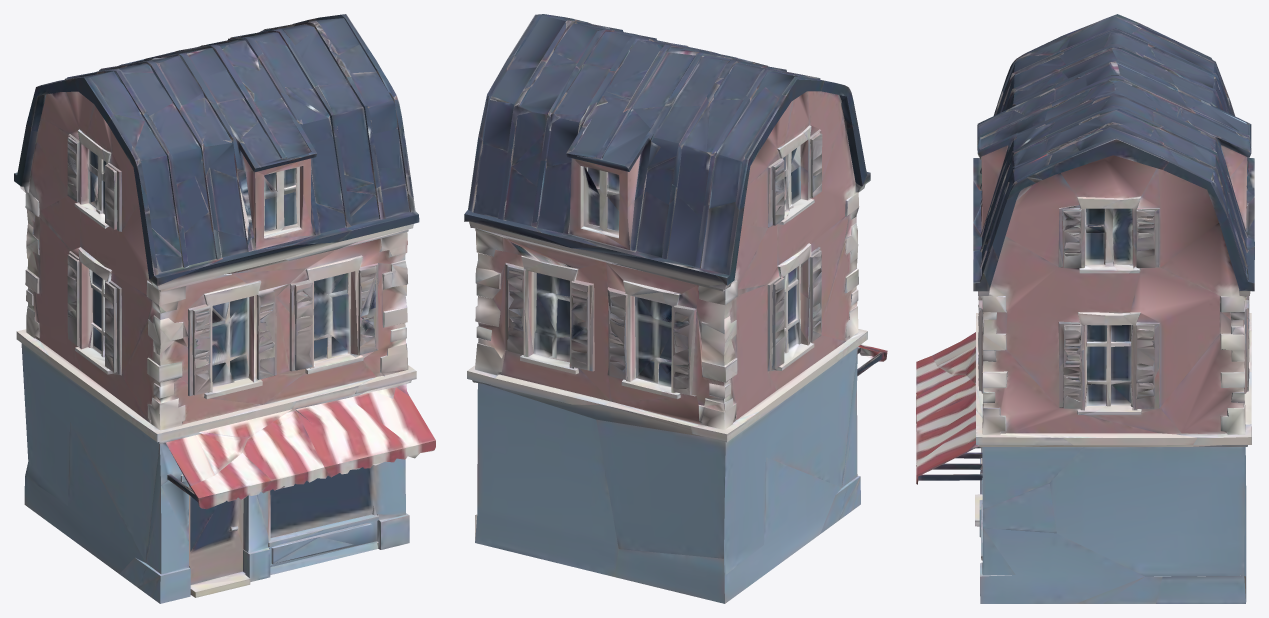
The model's file is maison.glb.
3 views of the same model, side by side, from view 1: azimuth 30°, elevation 25°; view 2: azimuth 150°, elevation 25°; view 3: azimuth 270°, elevation 25° (orthographic). The views are drawn at different scales.
Bounding box in the file's own units: 1.09 × 1.9 × 1.24.
1 material, 1 textured.
